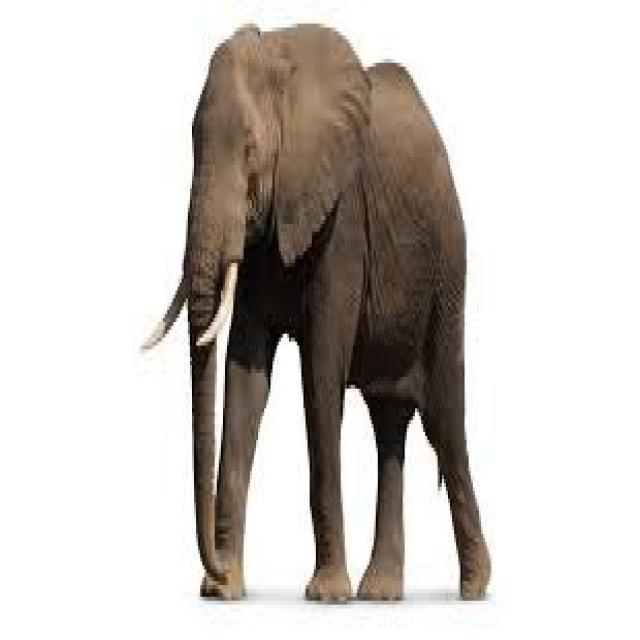Elephant: (138, 19, 492, 600)
